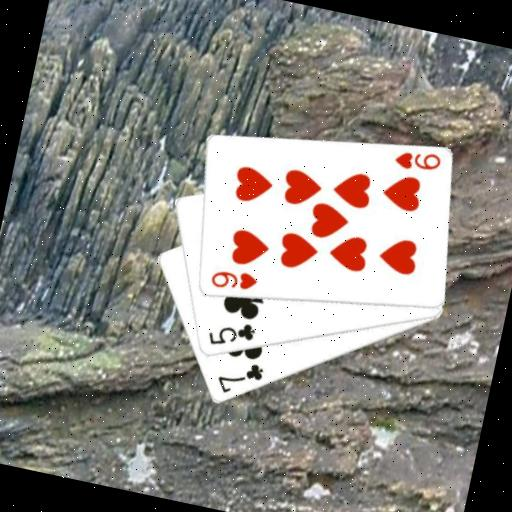5C: (203, 313, 259, 355)
7C: (211, 353, 267, 402)
9H: (205, 262, 260, 297), (389, 142, 443, 177)
